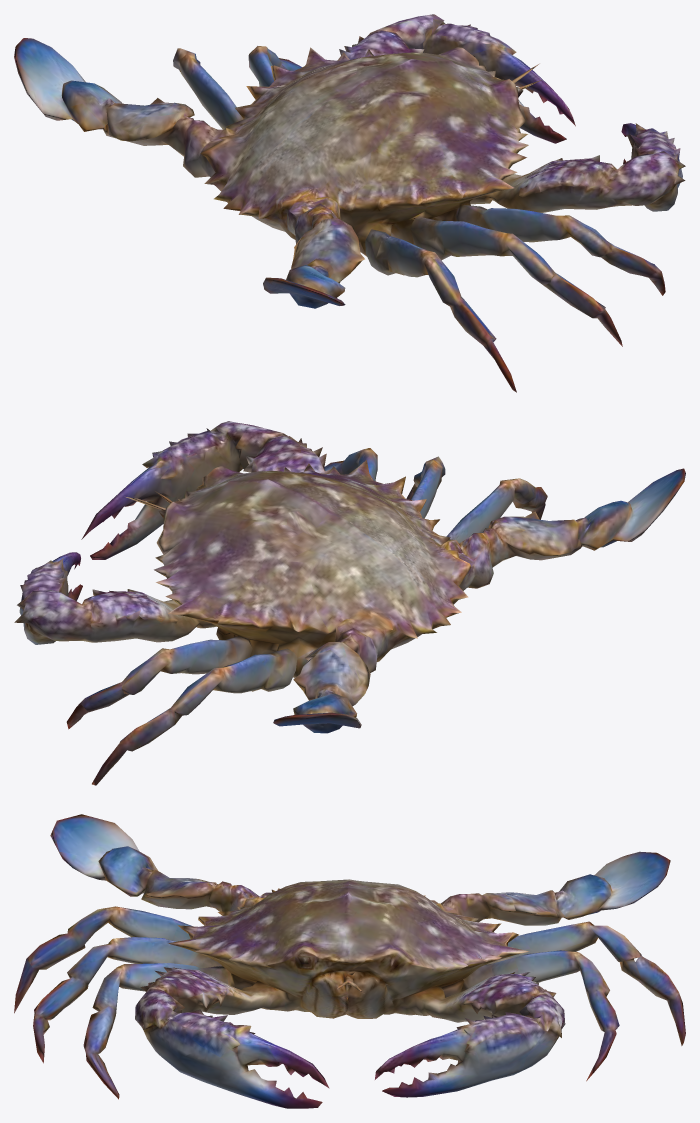
The model's file is crab.glb.
3 renders of one model, top to bottom at view 1: azimuth 30°, elevation 25°; view 2: azimuth 150°, elevation 25°; view 3: azimuth 270°, elevation 25°, orthographic. The views are drawn at different scales.
Visible parts, largest first — view 1: tripo_node_697c86f5-0bdf-4dd9-9531-9fbe788985c2; view 2: tripo_node_697c86f5-0bdf-4dd9-9531-9fbe788985c2; view 3: tripo_node_697c86f5-0bdf-4dd9-9531-9fbe788985c2.
Boxes of the visible parts, <box> form: tripo_node_697c86f5-0bdf-4dd9-9531-9fbe788985c2: <box>14,14,685,392</box>; tripo_node_697c86f5-0bdf-4dd9-9531-9fbe788985c2: <box>14,421,685,785</box>; tripo_node_697c86f5-0bdf-4dd9-9531-9fbe788985c2: <box>14,814,685,1108</box>.
Size of the model in its own units: 0.7317 by 0.2575 by 1.
1 material, 1 textured.
